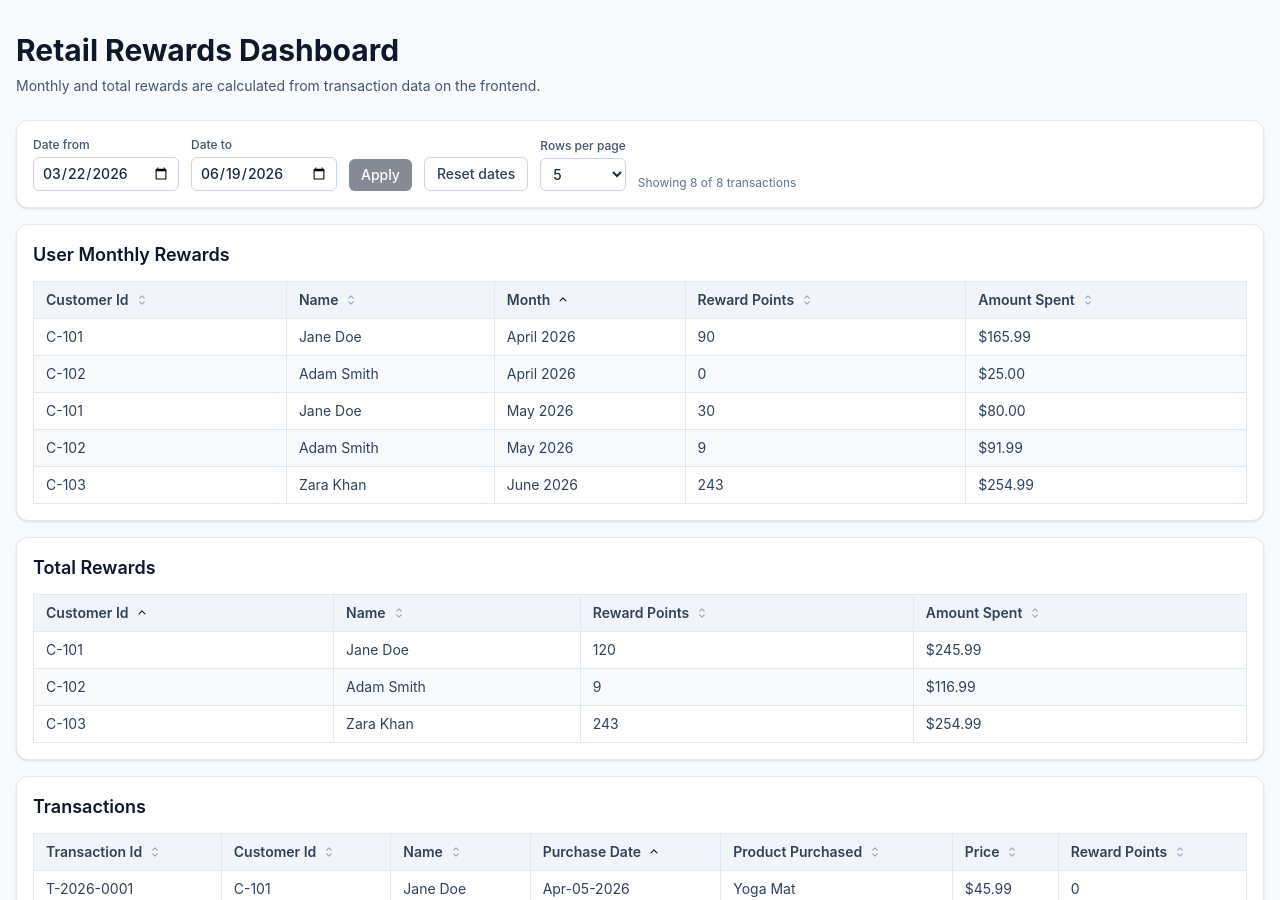
App › filters transactions by date range
Expected: the text "Showing 8 of 8 transactions" is shown, x1=638 y1=175 x2=796 y2=191
Type "2026-05-01" into the date field labelled "Date from" at (106, 174), box x1=33 y1=157 x2=179 y2=191
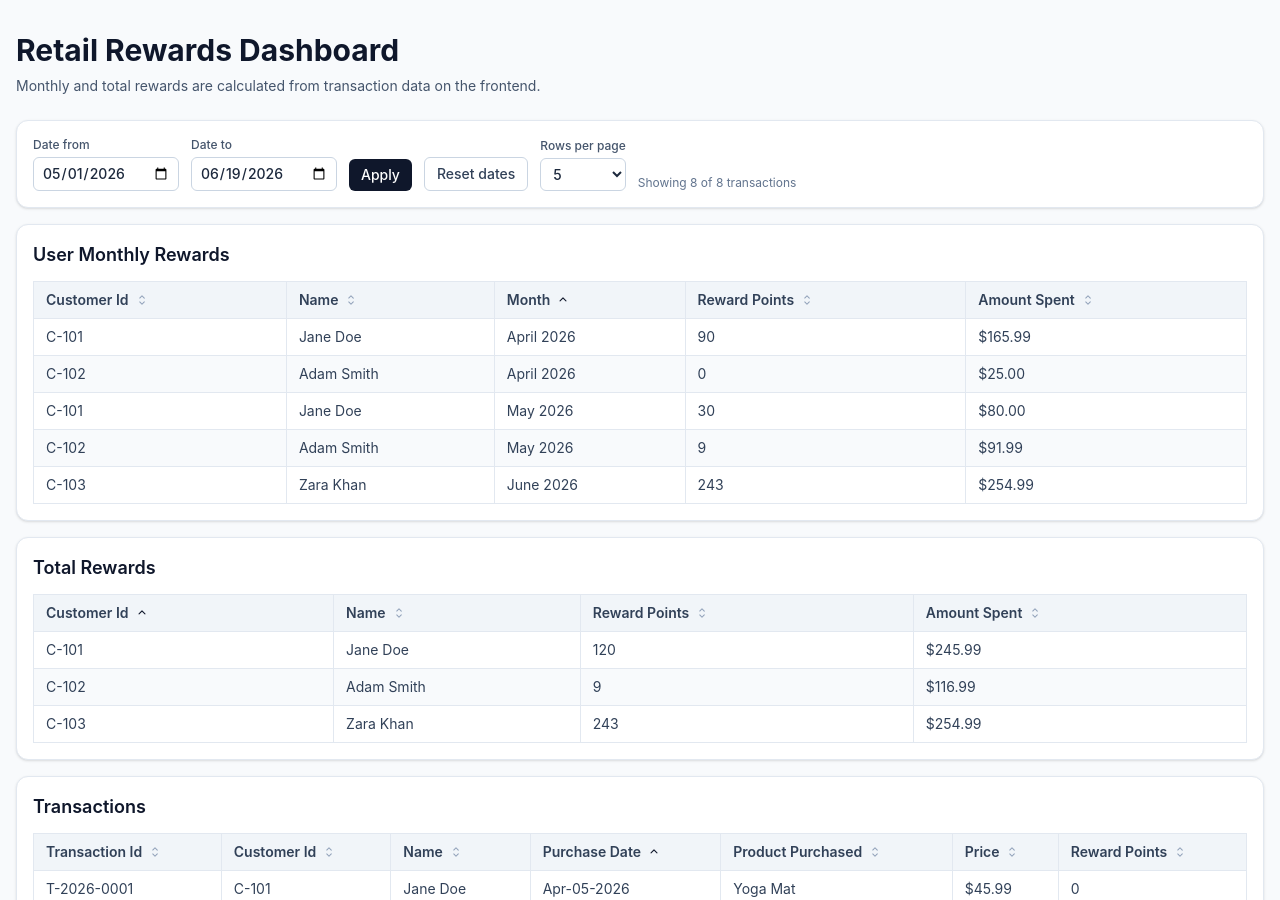
Type "2026-05-31" into the date field labelled "Date to" at (264, 174), box x1=191 y1=157 x2=337 y2=191
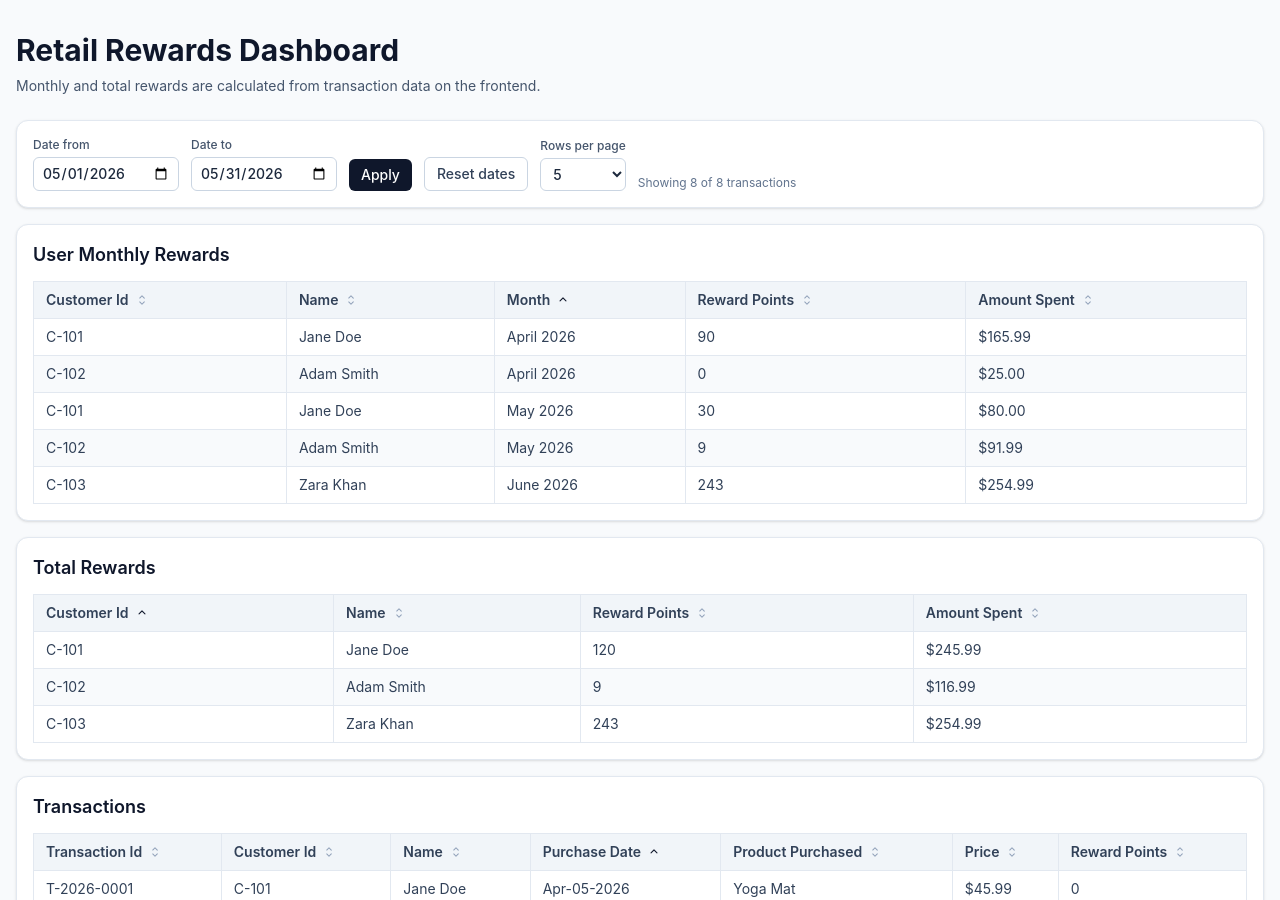
Click the button "Apply" at (380, 175), box x1=349 y1=159 x2=412 y2=191
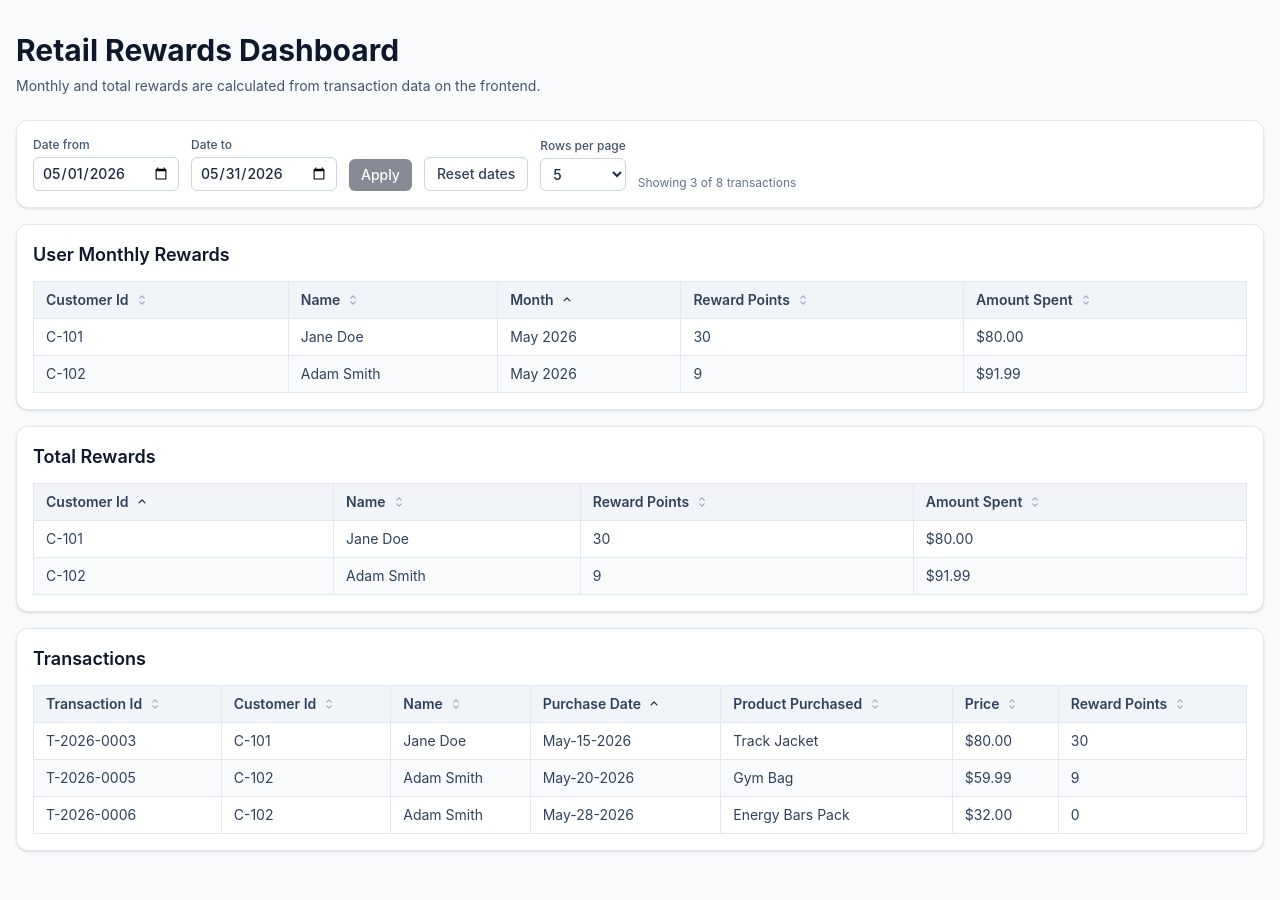
Expected: the text "Track Jacket" is shown, x1=721 y1=722 x2=952 y2=760
Expected: the text "Showing 3 of 8 transactions" is shown, x1=638 y1=175 x2=796 y2=191
